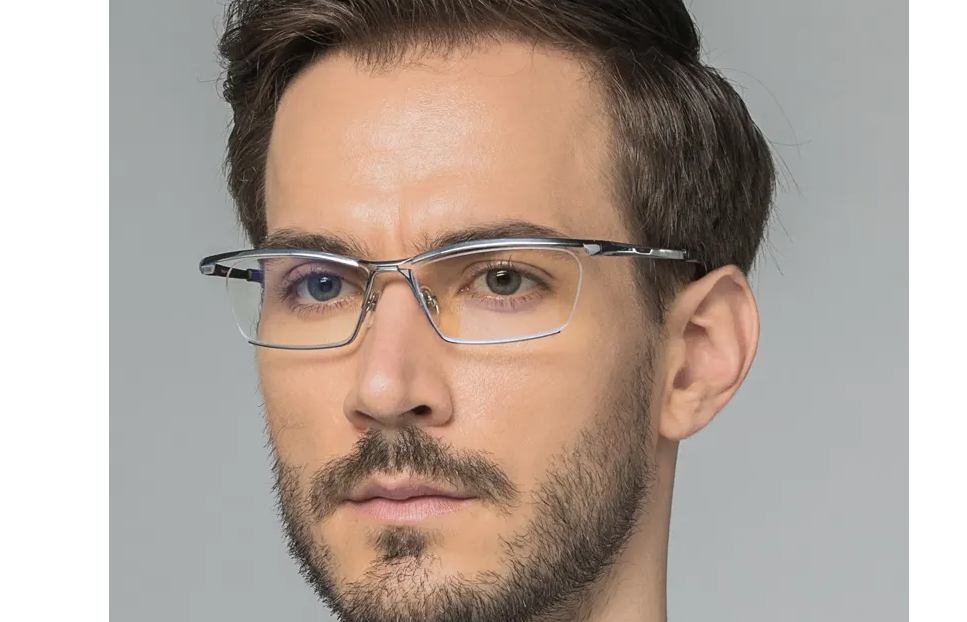glass: (183, 196, 708, 368)
mouth: (280, 435, 572, 535)
